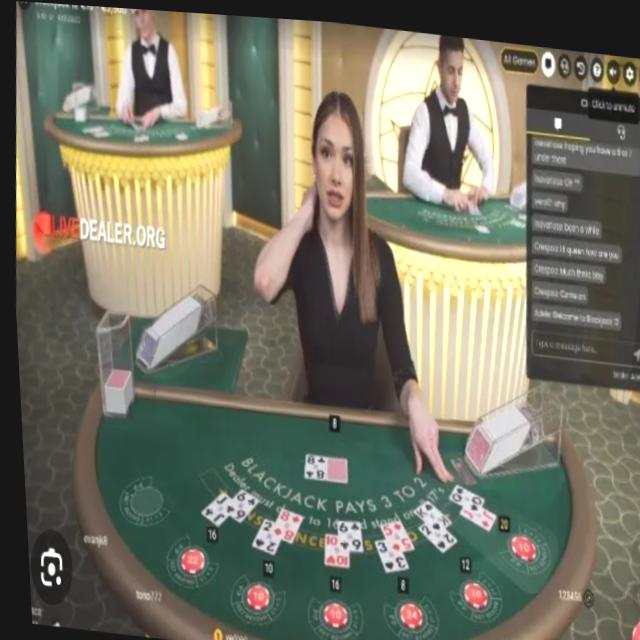Card-10: (319, 529, 344, 562)
Card-2: (413, 514, 452, 546), (247, 515, 275, 551)
Card-3: (369, 535, 402, 568)
Card-5: (375, 516, 408, 547)
Card-6: (220, 485, 254, 520), (333, 516, 357, 546)
Card-8: (268, 504, 298, 539), (299, 450, 322, 475)
Card-J: (196, 489, 227, 524), (457, 499, 491, 525)
Card-K: (409, 494, 445, 521)
Card-Q: (443, 477, 480, 506)
